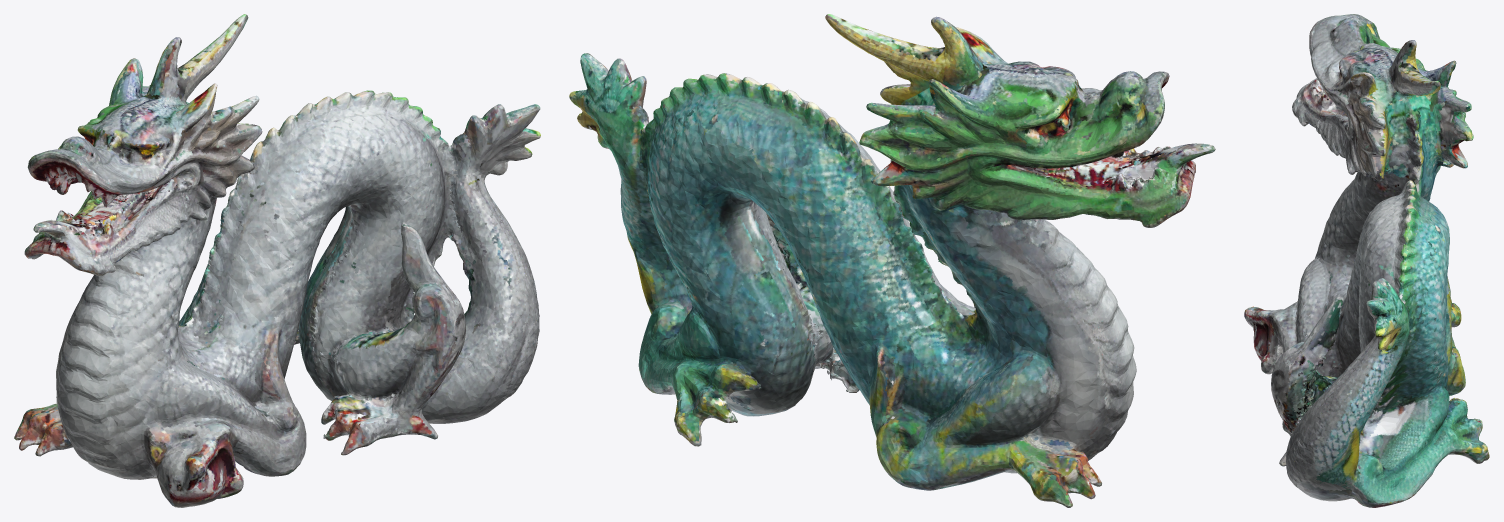
File: textured_text2tex.glb
3 views of the same model, side by side, from view 1: azimuth 30°, elevation 25°; view 2: azimuth 150°, elevation 25°; view 3: azimuth 270°, elevation 25° (orthographic). The views are drawn at different scales.
Visible parts, largest first — view 1: Node; view 2: Node; view 3: Node.
Boxes of the visible parts, x1,y1,x2,y2 form: Node: (14,14,540,507); Node: (569,14,1215,507); Node: (1244,14,1489,507).
Bounding box in the file's own units: 1 × 0.7053 × 0.4473.
Materials: 1 (1 with a texture image).
